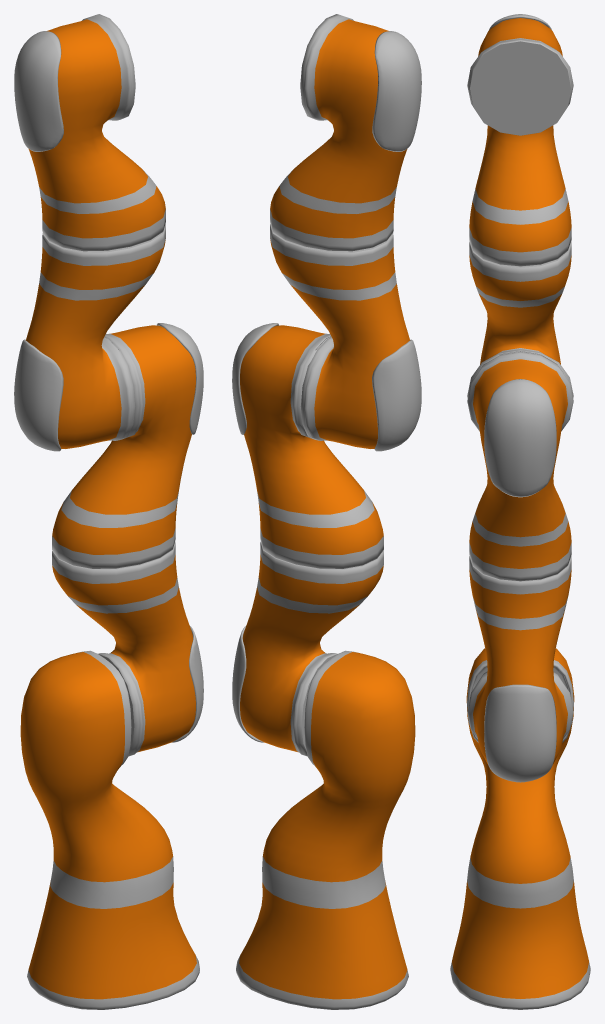
The model's file is Kuka3.fbx.
The picture shows the model from 3 angles, left to right: view 1: azimuth 30°, elevation 25°; view 2: azimuth 150°, elevation 25°; view 3: azimuth 270°, elevation 25°; orthographic projection. The views are drawn at different scales.
Visible parts, largest first — view 1: Cube, Cube.004, Cube.002, Cube.003, Cube.001; view 2: Cube, Cube.004, Cube.002, Cube.003, Cube.001; view 3: Cube, Cube.004, Cube.002, Cube.001, Cube.003.
Boxes of the visible parts, x1,y1,x2,y2 form: Cube: (20,650,199,1009); Cube.004: (14,14,165,251); Cube.002: (52,323,203,568); Cube.003: (14,224,165,451); Cube.001: (52,541,203,756); Cube: (236,650,415,1009); Cube.004: (270,14,421,251); Cube.002: (232,323,383,568); Cube.003: (270,224,421,451); Cube.001: (232,541,383,756); Cube: (450,648,590,1009); Cube.004: (467,14,573,266); Cube.002: (467,351,573,581); Cube.001: (467,556,573,782); Cube.003: (467,241,573,397).
Bounding box in the file's own units: 43.45 × 225 × 30.72.
